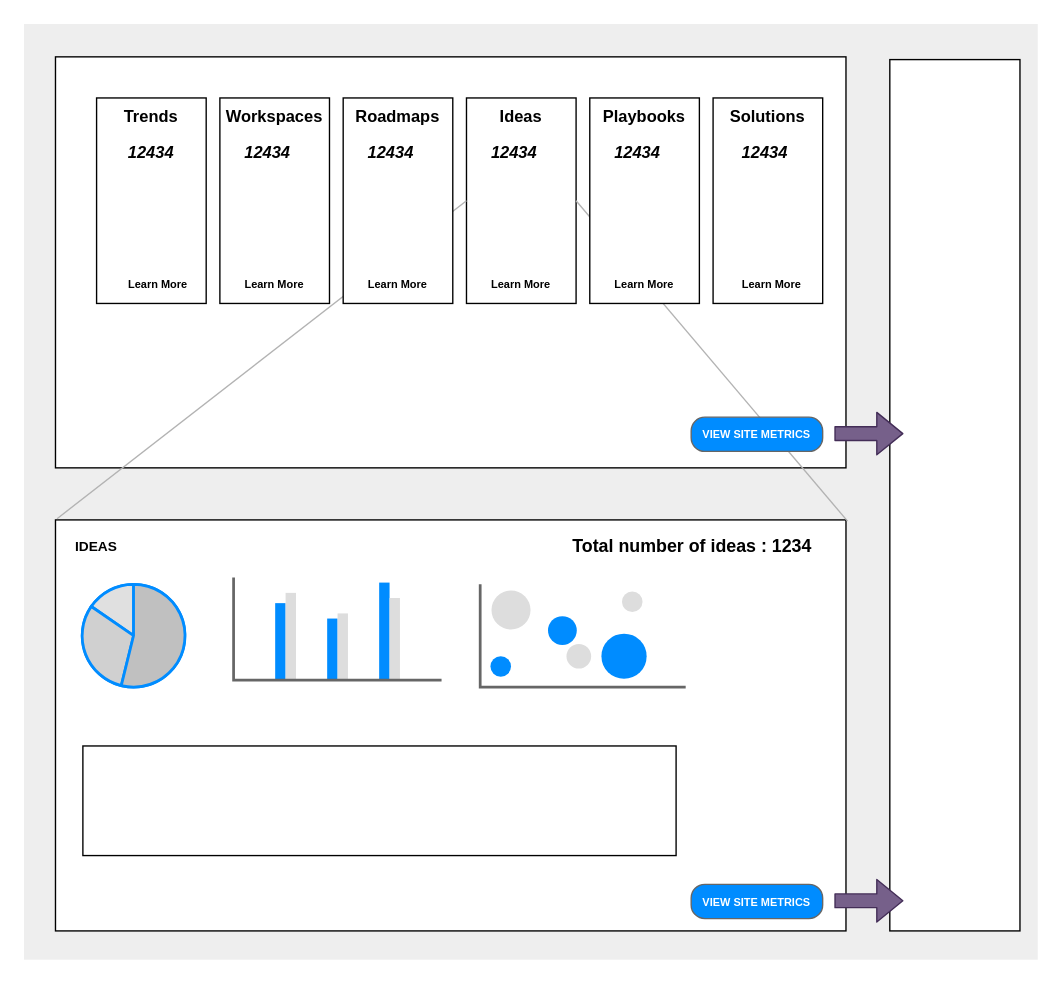
This 1060x982 diagram has some shape labels left out. Here are the shapes that lost their labels. From the top down, the centre of each, then its label:
At [954,494]: "DIGITAL EXPLORER STATS PAGE".
At [379,800]: "Header 1 Header 2 row 1, cell 1 row 1, cell 2 row 2, cell 1 row 2, cell 2".
